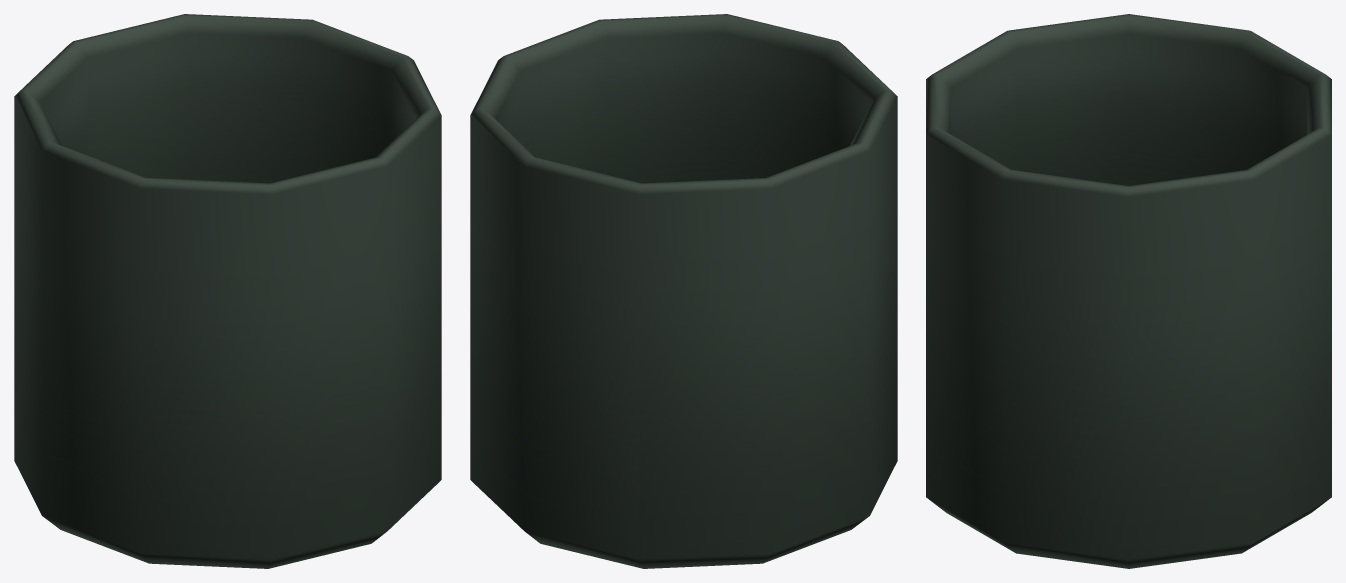
The model's file is cup-cd9dea52.gltf.
The picture shows the model from 3 angles, left to right: view 1: azimuth 30°, elevation 25°; view 2: azimuth 150°, elevation 25°; view 3: azimuth 270°, elevation 25°; orthographic projection.
Parts seen in each view (by area): view 1: Object_10; view 2: Object_10; view 3: Object_10.
Part boxes in pixels (x1,y1,x2,y2): Object_10: [14, 14, 441, 568]; Object_10: [470, 14, 897, 568]; Object_10: [926, 14, 1331, 568].
Size of the model in its own units: 11.76 by 11.75 by 11.18.
Materials: 1 (1 with a texture image).
